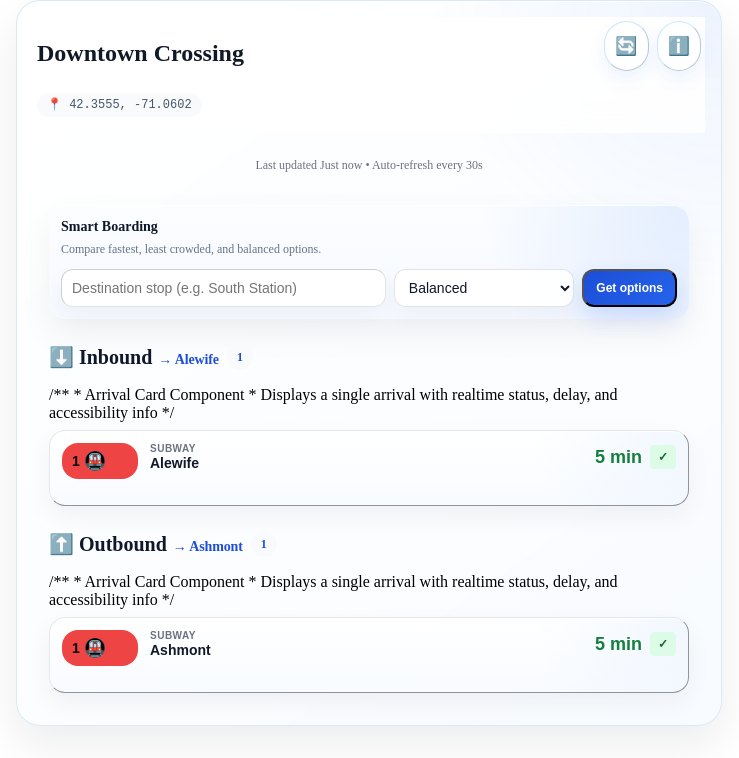
StopView › shows selected arrival detail when an arrival card is clicked
This screenshot has width=739, height=758.
Step 1. Click the text "Alewife" → click(174, 464), box [150,454,199,473]
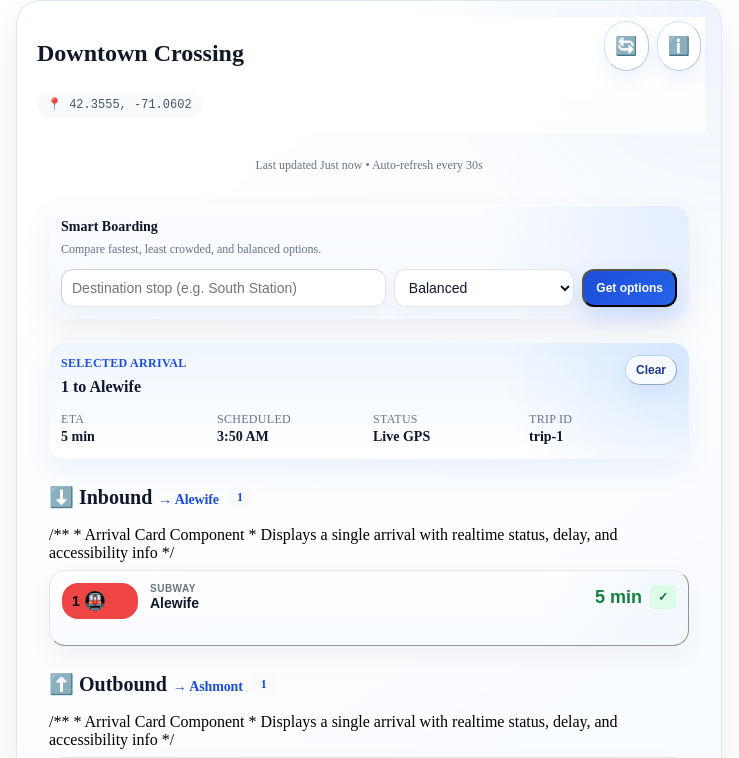
expect the text "Selected arrival" is shown: met, box [61,355,187,371]
expect the heading "1 to Alewife" is shown: met, box [61,378,141,395]
expect the text "trip-1" is shown: met, box [529,429,563,444]
